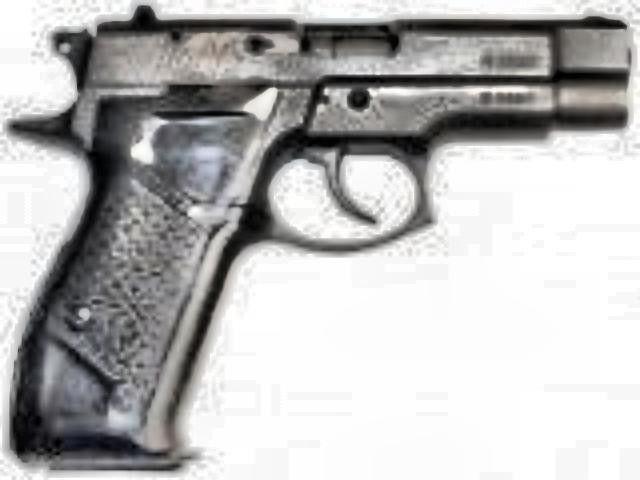pistol: (4, 8, 632, 468)
